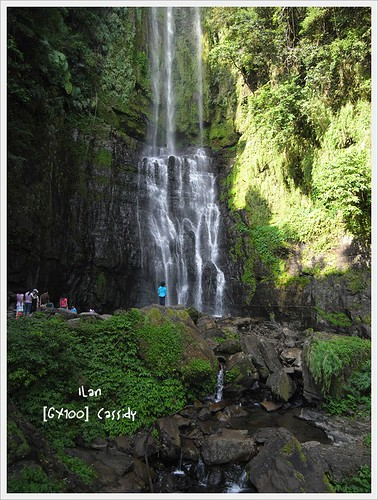wufengciWaterfall: (123, 7, 239, 318)
